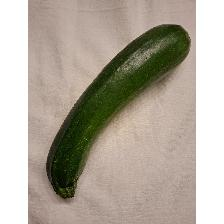Zucchini: (43, 18, 194, 202)
